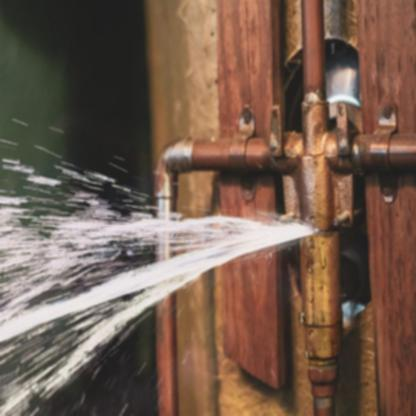burst: (251, 196, 326, 248)
